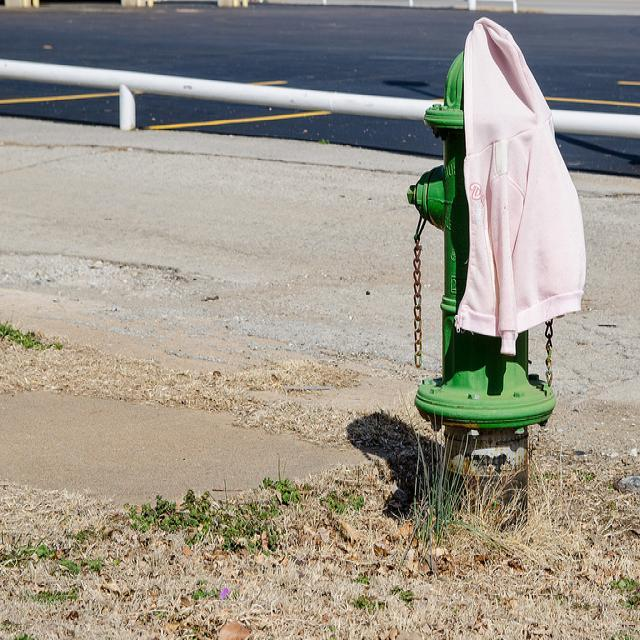fire_hydrant: (407, 51, 556, 532)
